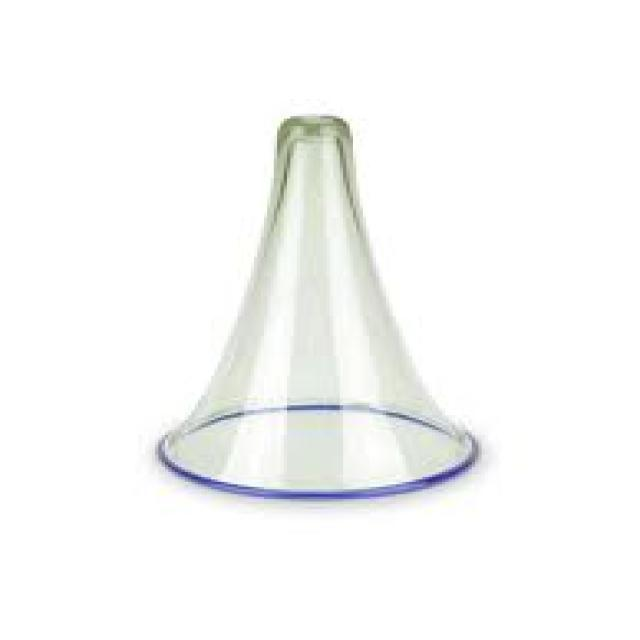Glass: (152, 111, 478, 502)
